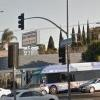Bus: (32, 57, 98, 100)
